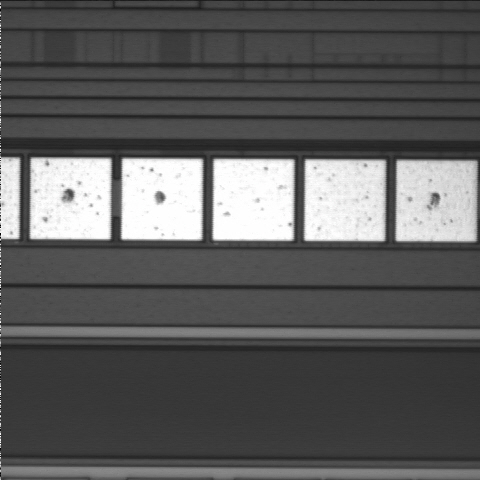pad: (121, 159, 203, 240), (213, 159, 294, 241), (30, 158, 111, 239), (304, 160, 385, 241), (396, 161, 476, 241)
